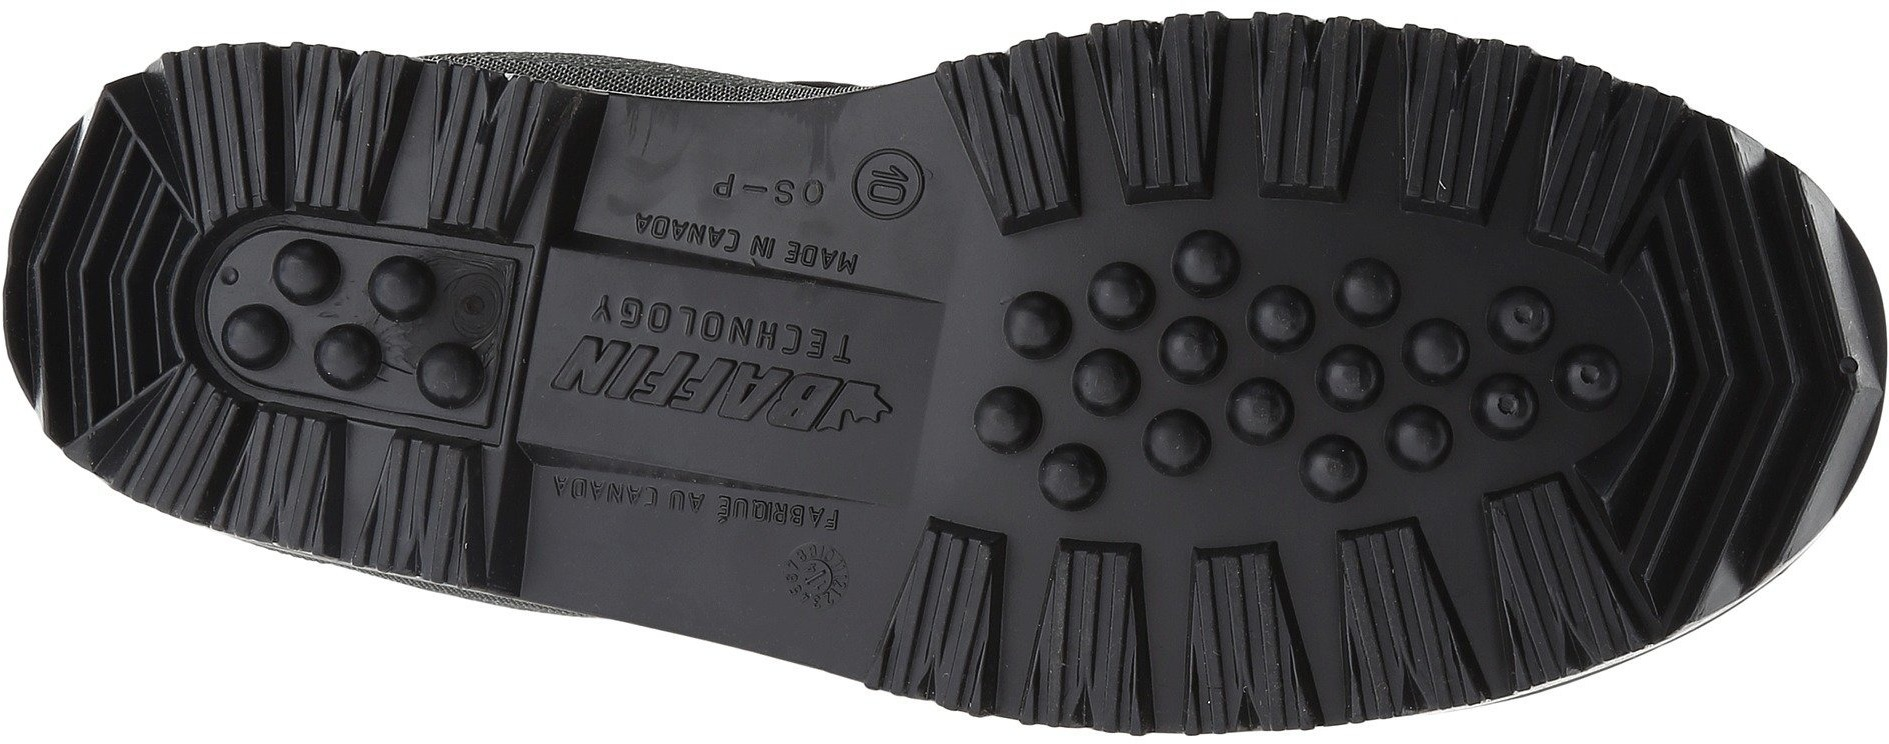chevron: (926, 5, 1095, 236), (1650, 261, 1834, 456), (1149, 541, 1338, 728), (1229, 1, 1406, 193), (22, 190, 198, 365)
circle: (979, 281, 1194, 489), (1204, 259, 1402, 466), (1419, 283, 1590, 443), (260, 242, 413, 385), (584, 284, 702, 411), (845, 138, 947, 230), (785, 532, 861, 622), (777, 161, 835, 226), (1823, 339, 1875, 397)
line: (926, 5, 1095, 236), (1149, 541, 1338, 728), (1229, 1, 1406, 193), (851, 524, 1017, 680)
text: (584, 284, 702, 411), (707, 313, 823, 430), (845, 138, 947, 230), (785, 532, 861, 622), (777, 161, 835, 226), (707, 211, 764, 265), (589, 470, 640, 522), (822, 232, 872, 284), (632, 205, 681, 255), (708, 488, 757, 538), (867, 163, 913, 209)
